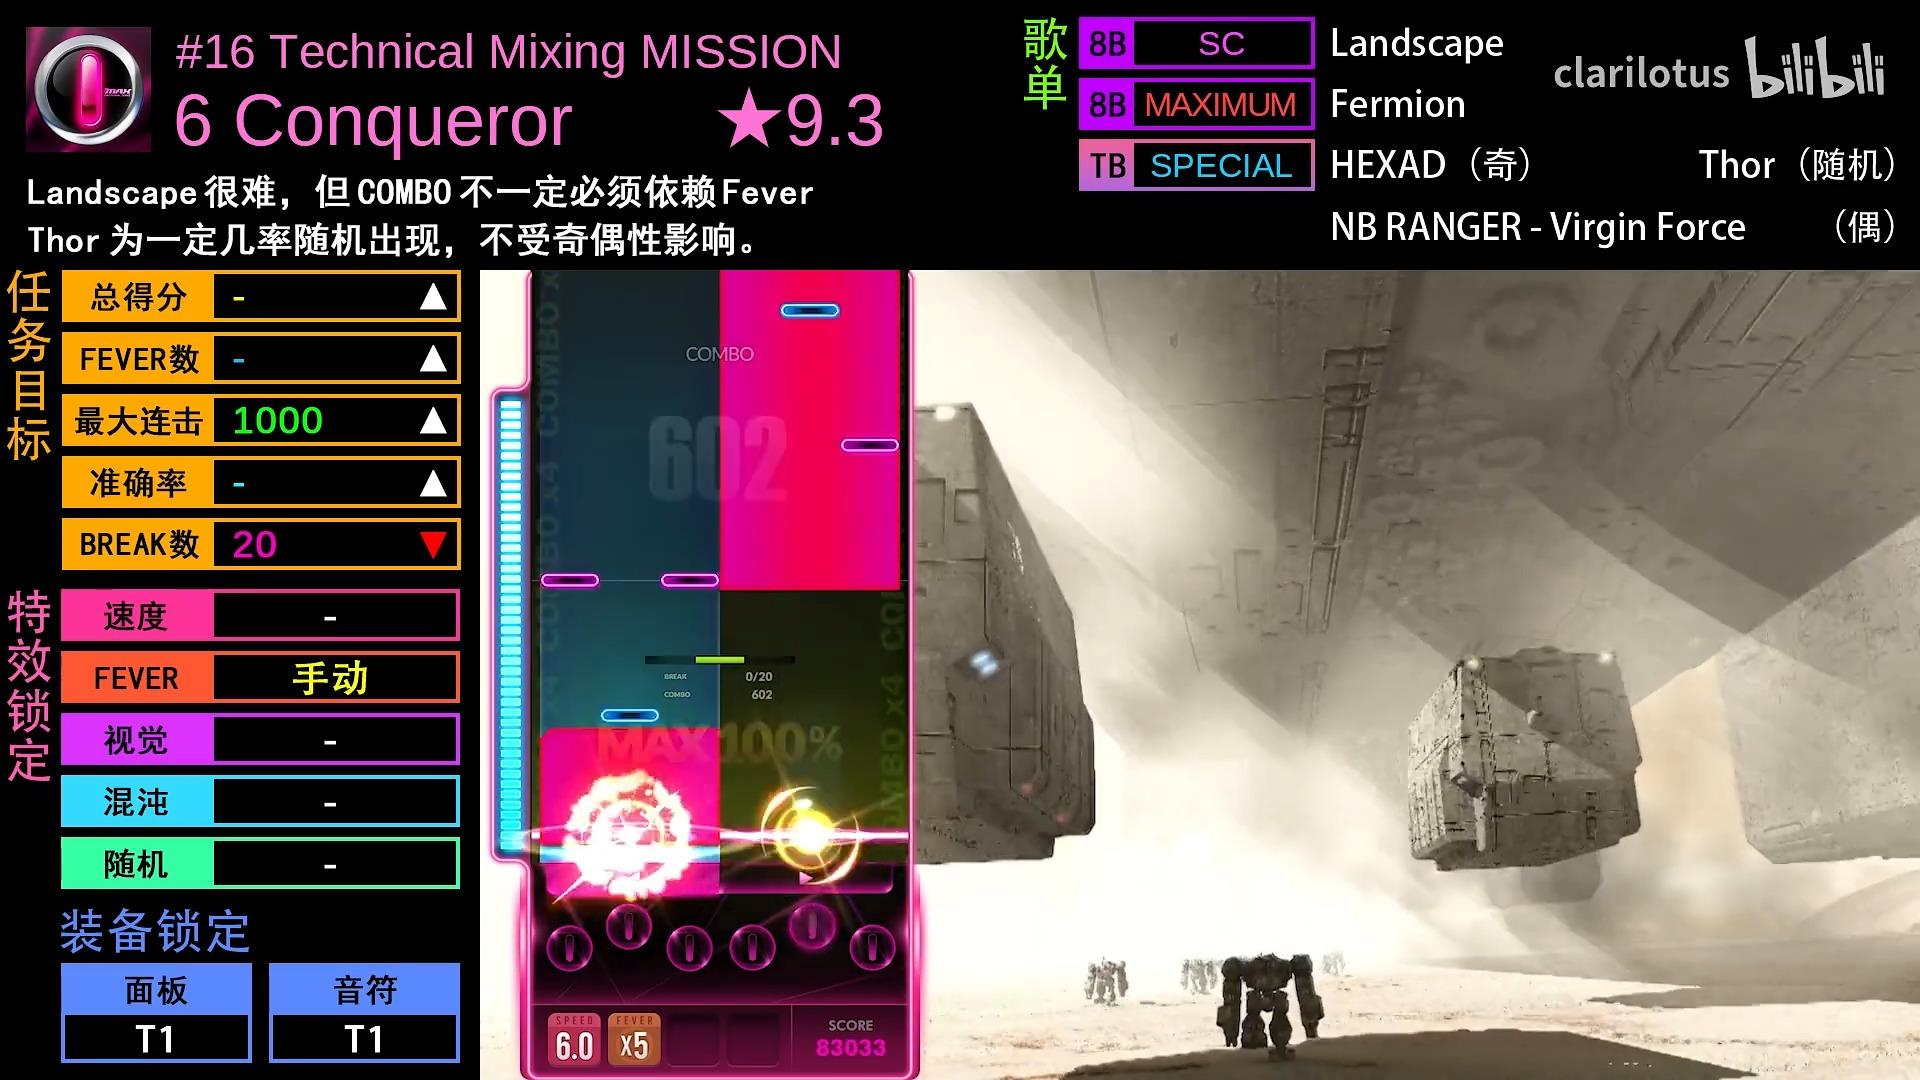note: (779, 302, 841, 319), (659, 572, 719, 589), (600, 707, 659, 724), (840, 436, 899, 454), (541, 572, 599, 588)
xend: (541, 727, 720, 750)
xstart: (719, 566, 901, 589)
